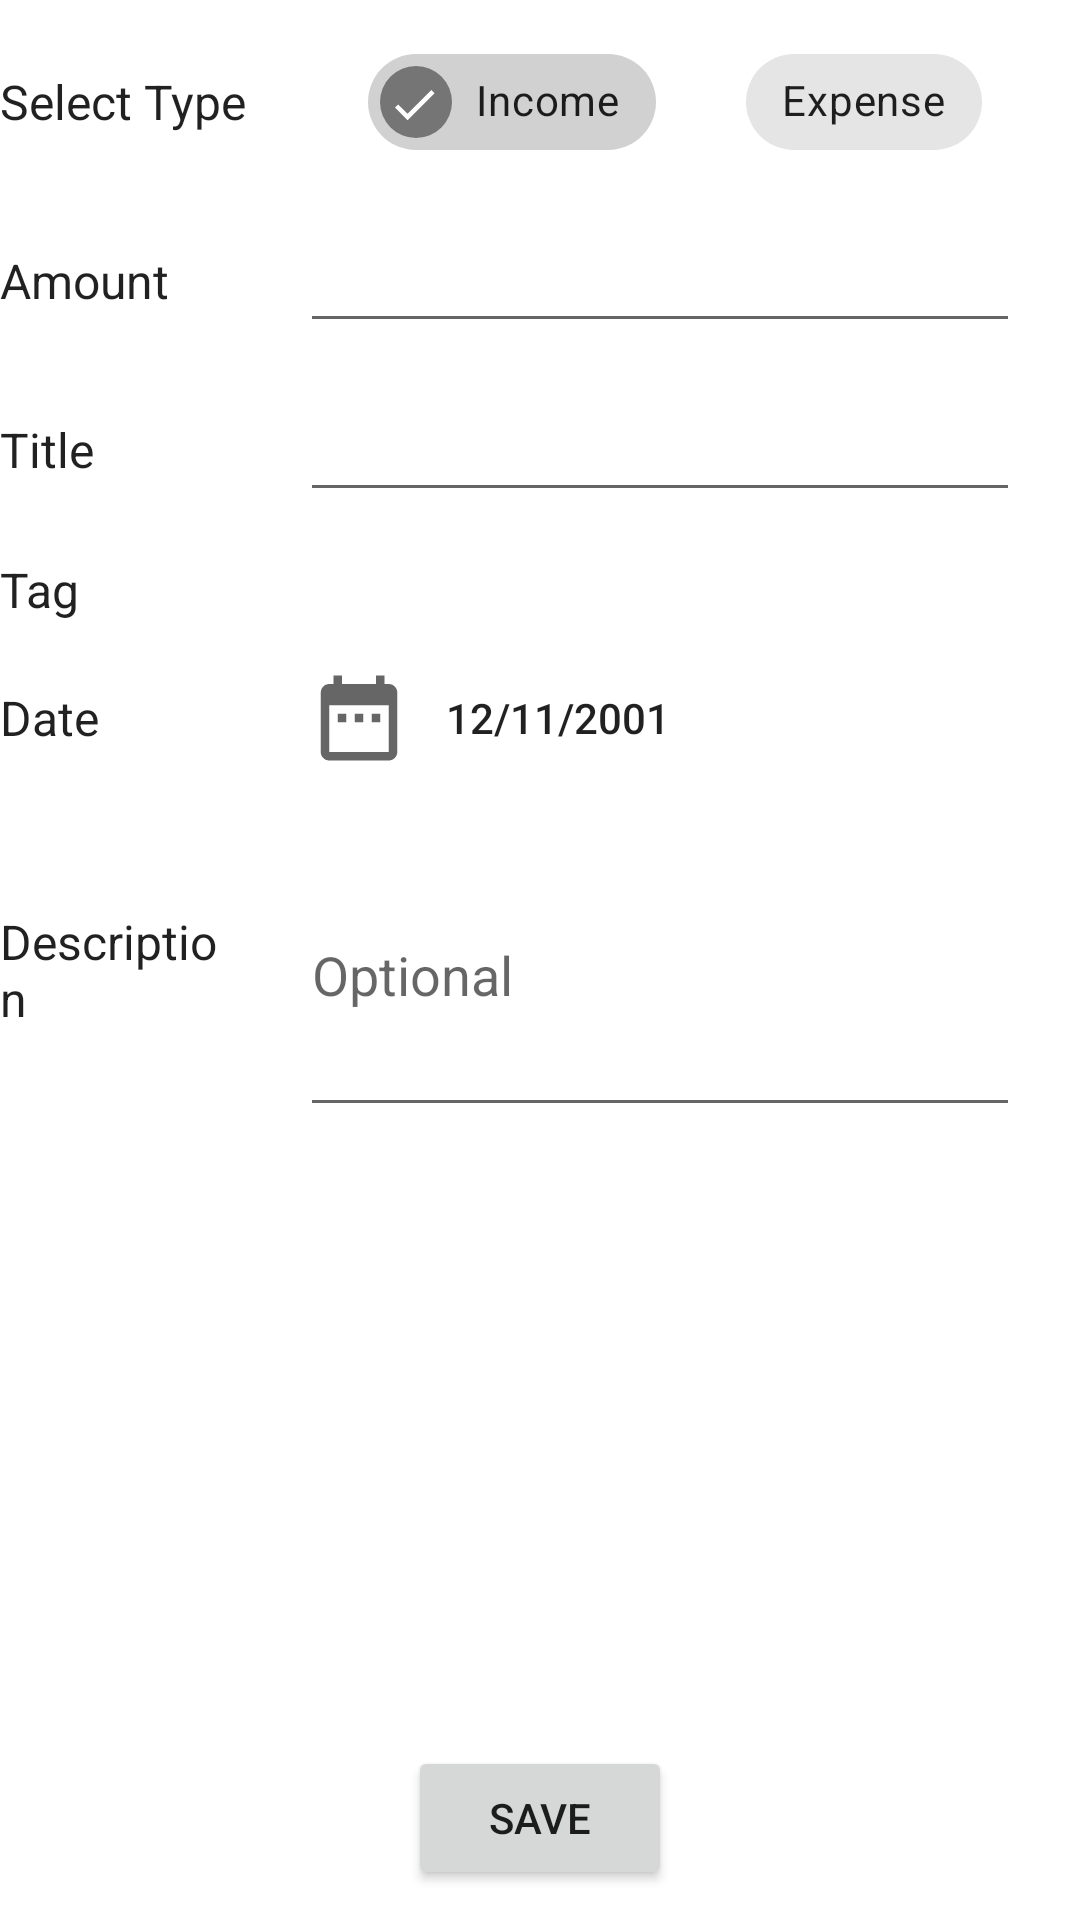

Icons on this 1080w x 1920h Android screen, each with its box as (x1, y1, x2, y2):
calender: (320, 675, 398, 761)
